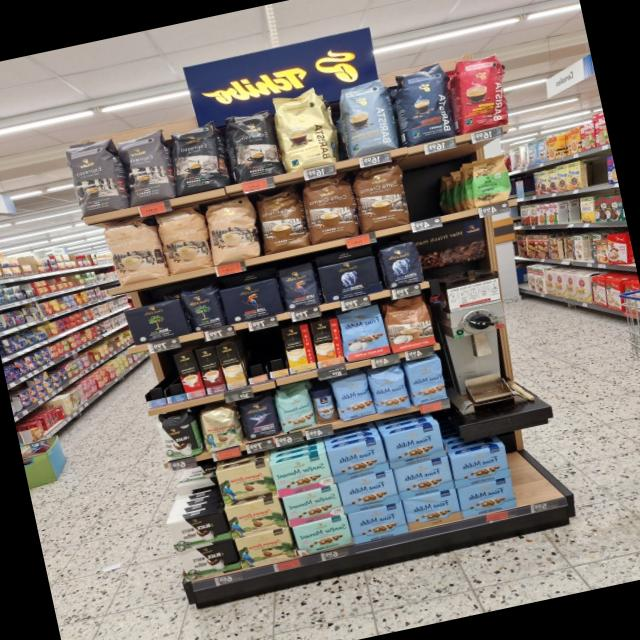AB Bohne: (378, 238, 424, 290)
AB Gemahlen: (316, 252, 382, 304)
Athiopien Bohne: (466, 152, 516, 208)
BM Bohne: (180, 282, 223, 334)
BM Gemahlen: (122, 298, 188, 348)
BW Bohne: (152, 408, 204, 464)
BW Gemahlen: (163, 507, 230, 552), (176, 537, 240, 582)
Barista CB: (269, 83, 339, 172)
Barista CC: (334, 76, 399, 158)
Barista Espresso: (388, 61, 459, 147)
Barista Kolumbien: (446, 50, 516, 134)
C Fino Bohne: (236, 391, 280, 442)
CC Mild: (102, 215, 165, 288), (202, 194, 262, 266), (155, 204, 215, 276)
CC Vollmundig: (382, 294, 438, 354)
CC Vollmundig 36 Pads: (348, 159, 414, 233), (299, 170, 362, 244), (252, 182, 310, 254)
Colombia BB Bohne: (198, 402, 245, 453)
Colombia BB Gemahlen: (222, 492, 286, 540), (214, 457, 276, 505), (234, 524, 296, 570)
Empty Shelf: (402, 145, 472, 219), (155, 355, 184, 397), (260, 329, 288, 372), (138, 359, 166, 401), (240, 334, 266, 378)
Espresso Aromatisch: (62, 134, 128, 218), (115, 124, 178, 206)
Espresso Kraftig: (164, 118, 228, 196), (220, 106, 284, 184)
FM 36 Pads: (336, 302, 390, 362)
FM Bohne: (404, 356, 450, 406), (330, 370, 374, 422), (368, 362, 411, 414)
FM Gemahlen: (325, 436, 389, 484), (383, 422, 447, 468), (338, 468, 400, 514), (449, 444, 511, 488), (392, 456, 454, 500), (347, 502, 409, 545), (402, 488, 462, 531), (457, 478, 517, 518)
FM Instant: (308, 384, 339, 426)
LG Bohne: (277, 260, 321, 312)
LG Gemahlen: (218, 276, 284, 326)
SM Bohne: (271, 381, 316, 433)
SM Gemahlen: (269, 451, 333, 498), (282, 482, 344, 526), (292, 514, 352, 558)
Simo CCMild: (281, 323, 317, 374)
Simo CCVollmundig: (309, 317, 346, 368)
Simo Decaff: (215, 341, 247, 389)
Simo Es Brazil: (172, 350, 206, 399)
Simo Es Caramel: (195, 345, 226, 393)
